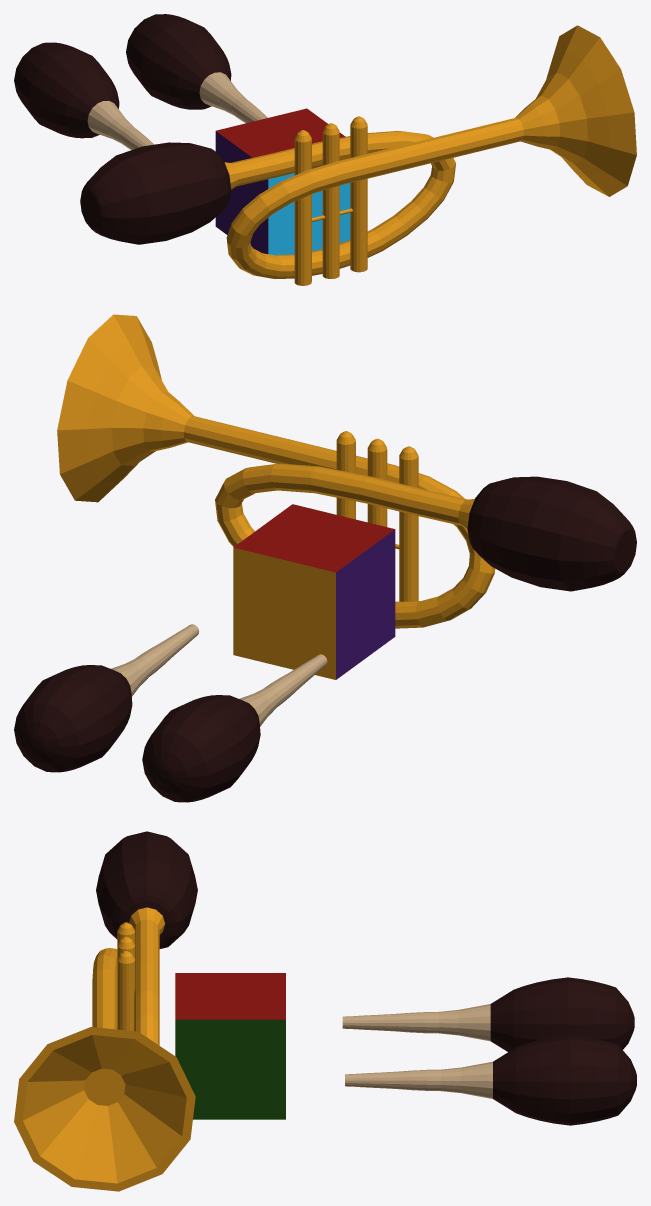
File: Letzter Export.fbx
3 renders of one model, top to bottom at view 1: azimuth 30°, elevation 25°; view 2: azimuth 150°, elevation 25°; view 3: azimuth 270°, elevation 25°, orthographic. The views are drawn at different scales.
Parts seen in each view (by area): view 1: BezierCurve.001, Cylinder.006, Cylinder.005, Würfel; view 2: BezierCurve.001, Würfel, Cylinder.005, Cylinder.006; view 3: BezierCurve.001, Würfel, Cylinder.006, Cylinder.005.
Part boxes in pixels (bbox=[...]): BezierCurve.001: bbox=[80, 25, 636, 285]; Cylinder.006: bbox=[126, 14, 267, 123]; Cylinder.005: bbox=[14, 42, 153, 149]; Würfel: bbox=[215, 108, 350, 255]; BezierCurve.001: bbox=[57, 314, 636, 628]; Würfel: bbox=[233, 504, 395, 679]; Cylinder.005: bbox=[142, 654, 327, 802]; Cylinder.006: bbox=[14, 624, 199, 772]; BezierCurve.001: bbox=[14, 831, 197, 1191]; Würfel: bbox=[175, 973, 285, 1119]; Cylinder.006: bbox=[345, 1035, 636, 1125]; Cylinder.005: bbox=[342, 977, 634, 1051].
Bounding box in the file's own units: 138 × 52.84 × 147.
